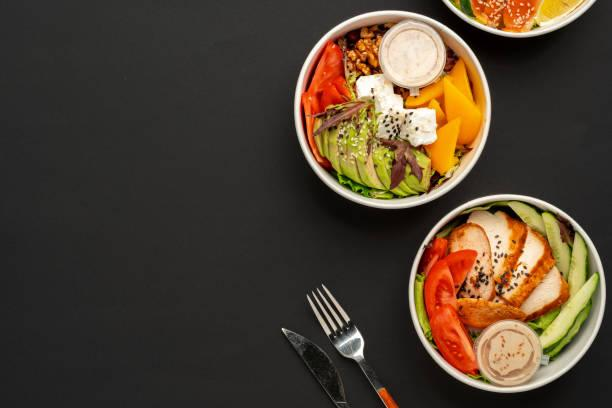Braised Crucian Carp: (408, 193, 606, 396), (292, 8, 488, 210)
